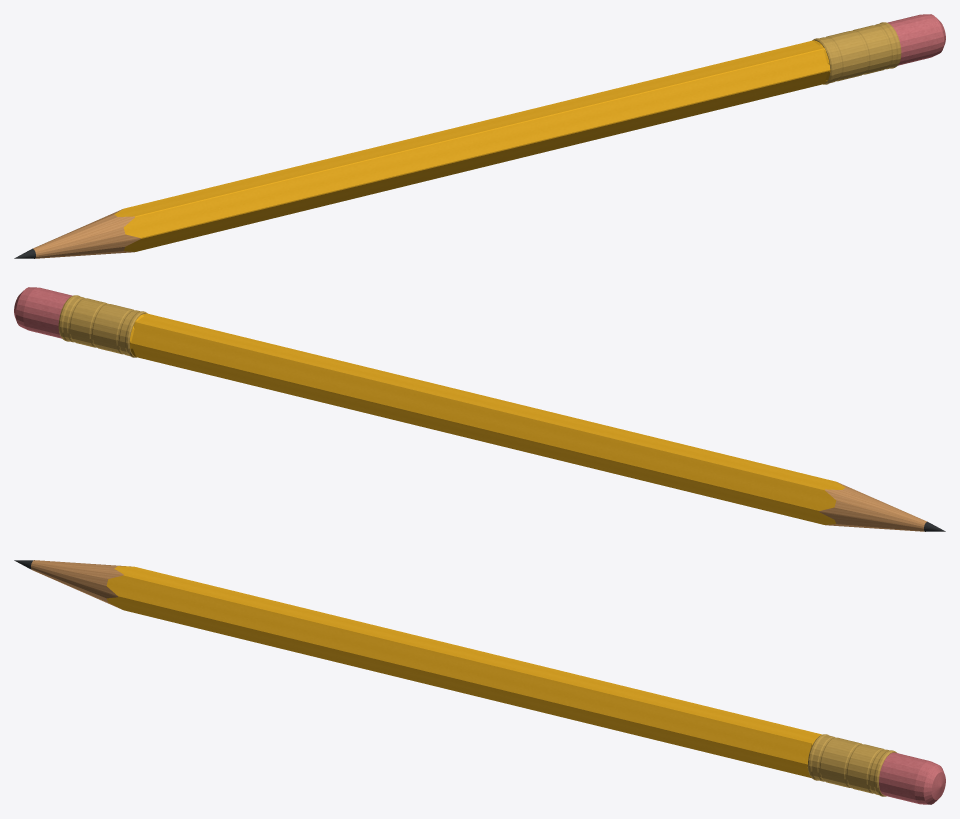
The model's file is wooden_pencil_LOD1.glb.
3 views of the same model, one above another, from view 1: azimuth 30°, elevation 25°; view 2: azimuth 150°, elevation 25°; view 3: azimuth 330°, elevation 25° (orthographic).
Visible parts, largest first — view 1: Continuous_hexagonal_wood_graphite_core, Hollow_crimped_brass_ferrule, Seated_pink_eraser; view 2: Continuous_hexagonal_wood_graphite_core, Hollow_crimped_brass_ferrule, Seated_pink_eraser; view 3: Continuous_hexagonal_wood_graphite_core, Hollow_crimped_brass_ferrule, Seated_pink_eraser.
Part boxes in pixels (x1=…): Continuous_hexagonal_wood_graphite_core: x1=14, y1=40, x2=830, y2=258; Hollow_crimped_brass_ferrule: x1=812, y1=22, x2=901, y2=84; Seated_pink_eraser: x1=887, y1=14, x2=945, y2=65; Continuous_hexagonal_wood_graphite_core: x1=129, y1=313, x2=945, y2=531; Hollow_crimped_brass_ferrule: x1=58, y1=295, x2=147, y2=357; Seated_pink_eraser: x1=14, y1=287, x2=72, y2=338; Continuous_hexagonal_wood_graphite_core: x1=14, y1=560, x2=821, y2=777; Hollow_crimped_brass_ferrule: x1=808, y1=734, x2=896, y2=796; Seated_pink_eraser: x1=879, y1=752, x2=945, y2=804.
Size of the model in its own units: 0.19 by 0.0084 by 0.0084.
5 materials, 4 textured.
